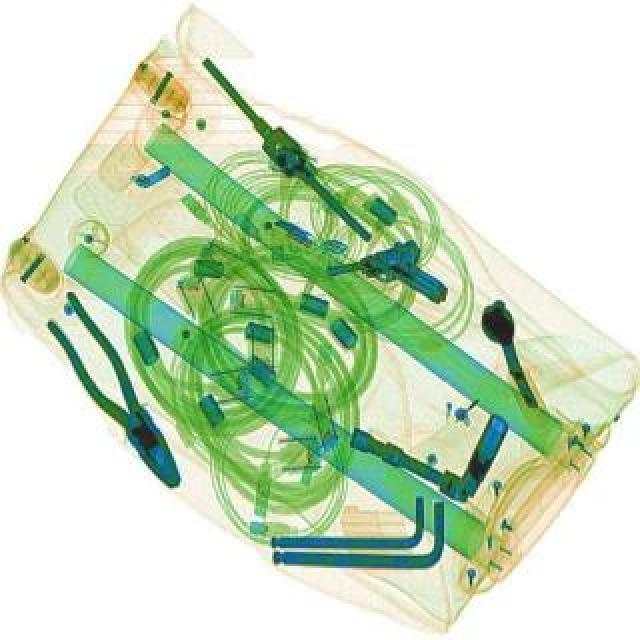gun: (322, 238, 450, 330)
wrench: (32, 290, 196, 500)
